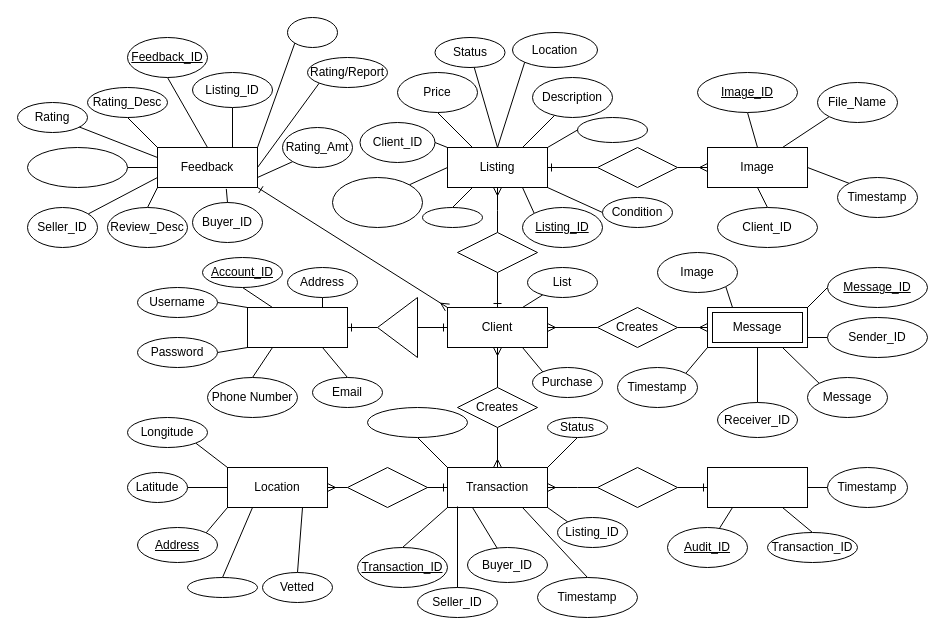
This 945x635 diagram has some shape labels left out. Each missing label, with the centre of its shape:
"Account" goes at [297,327].
"Audit Trail" goes at [757,487].
"Avg" goes at [312,32].
"Category" goes at [612,129].
"Generates" goes at [637,487].
"Has" goes at [637,167].
"isA" goes at [397,327].
"Item" goes at [452,217].
"Meetup_Address" goes at [417,422].
"Name" goes at [222,587].
"Payment_Type" goes at [377,202].
"Puchases" goes at [497,252].
"Pulls" goes at [387,487].
"Rating_Totals" goes at [77,167].
